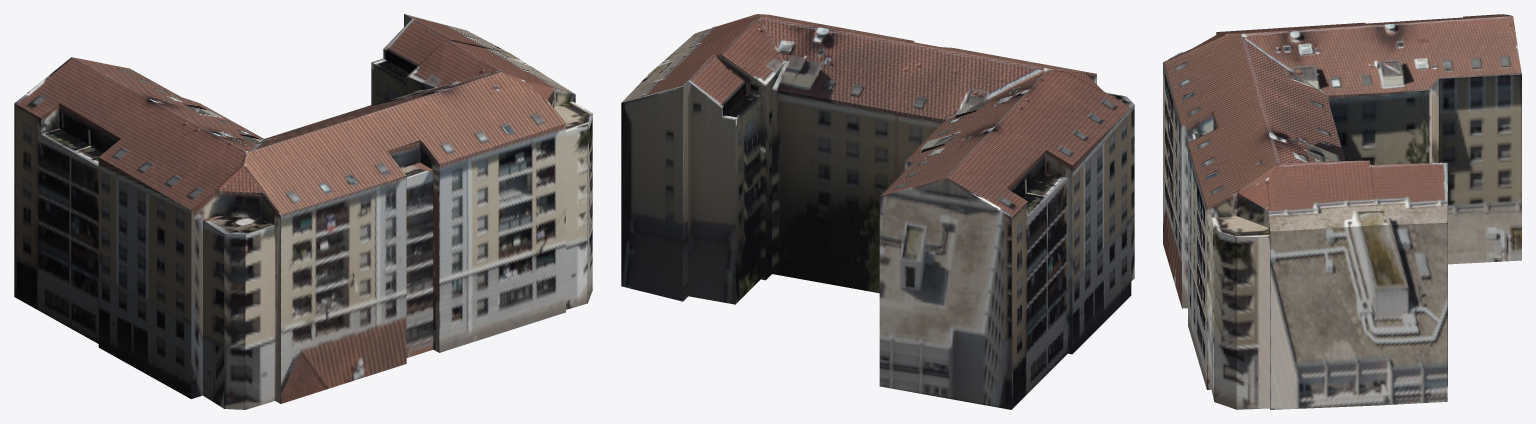
3 renders of one model, left to right at view 1: azimuth 30°, elevation 25°; view 2: azimuth 150°, elevation 25°; view 3: azimuth 270°, elevation 25°, orthographic. The views are drawn at different scales.
Visible parts, largest first — view 1: Z_UP; view 2: Z_UP; view 3: Z_UP.
Boxes of the visible parts, x1,y1,x2,y2 form: Z_UP: [14, 14, 592, 409]; Z_UP: [621, 14, 1134, 409]; Z_UP: [1163, 14, 1521, 409].
Bounding box in the file's own units: 45.79 × 22.03 × 33.36.
2 materials, 1 textured.
